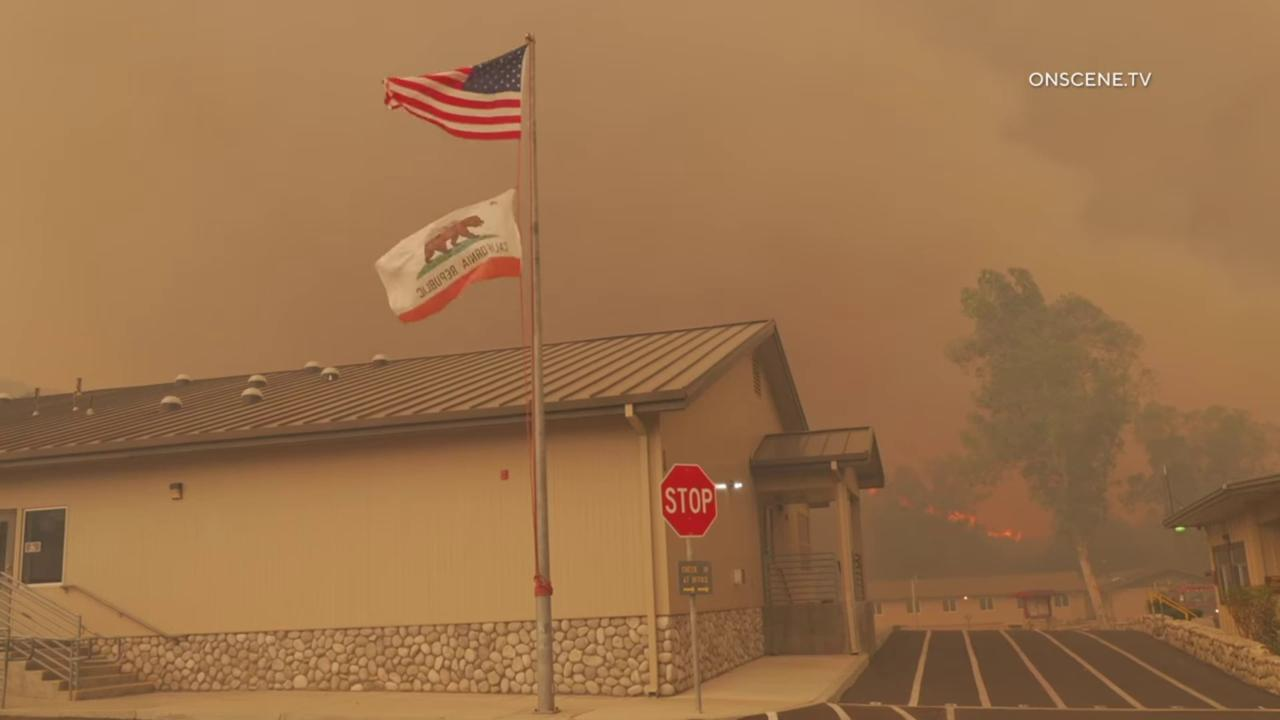fire: (922, 502, 976, 529), (984, 527, 1030, 545), (863, 487, 881, 496)
smoke: (0, 0, 1280, 582)
